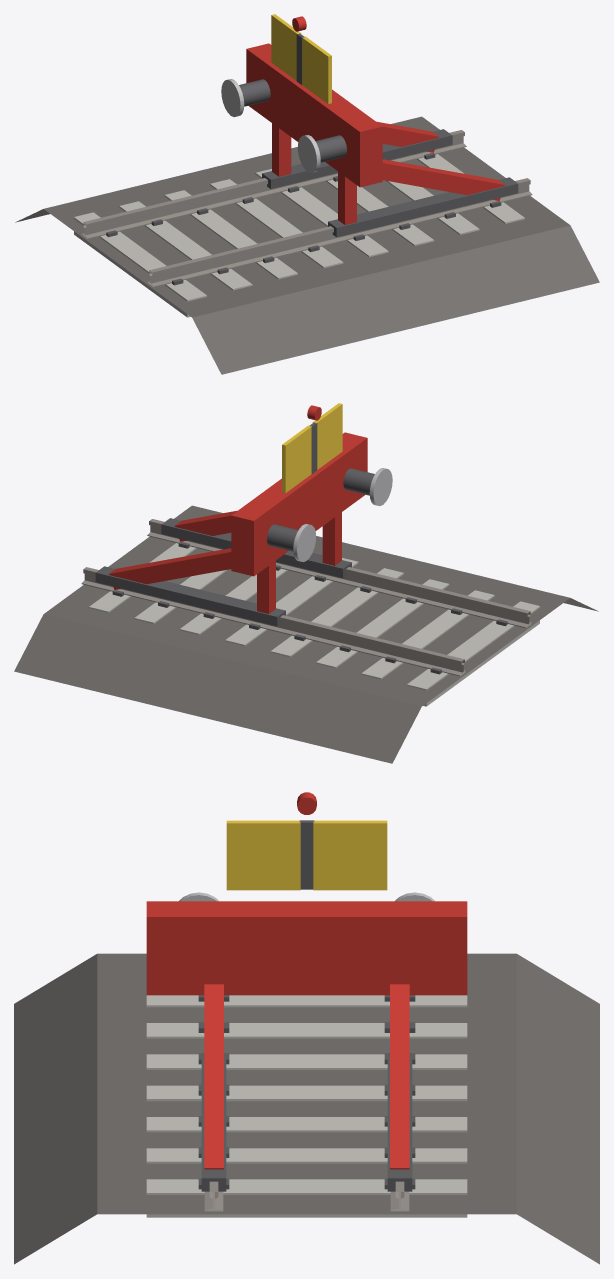
The model's file is SM_BufferStop.fbx.
3 views of the same model, one above another, from view 1: azimuth 30°, elevation 25°; view 2: azimuth 150°, elevation 25°; view 3: azimuth 270°, elevation 25° (orthographic). The views are drawn at different scales.
Visible parts, largest first — view 1: SM_BufferStop_Ballast, SM_BufferStop_Stop, SM_BufferStop_Track; view 2: SM_BufferStop_Ballast, SM_BufferStop_Stop, SM_BufferStop_Track; view 3: SM_BufferStop_Ballast, SM_BufferStop_Stop, SM_BufferStop_Track.
Boxes of the visible parts, x1,y1,x2,y2 form: SM_BufferStop_Ballast: (15, 116, 599, 374); SM_BufferStop_Stop: (221, 14, 518, 237); SM_BufferStop_Track: (74, 130, 532, 317); SM_BufferStop_Ballast: (14, 505, 598, 763); SM_BufferStop_Stop: (95, 403, 392, 626); SM_BufferStop_Track: (81, 519, 539, 706); SM_BufferStop_Ballast: (14, 953, 599, 1264); SM_BufferStop_Stop: (146, 792, 467, 1191); SM_BufferStop_Track: (146, 995, 467, 1217).
Size of the model in its own units: 500 by 299 by 475.
